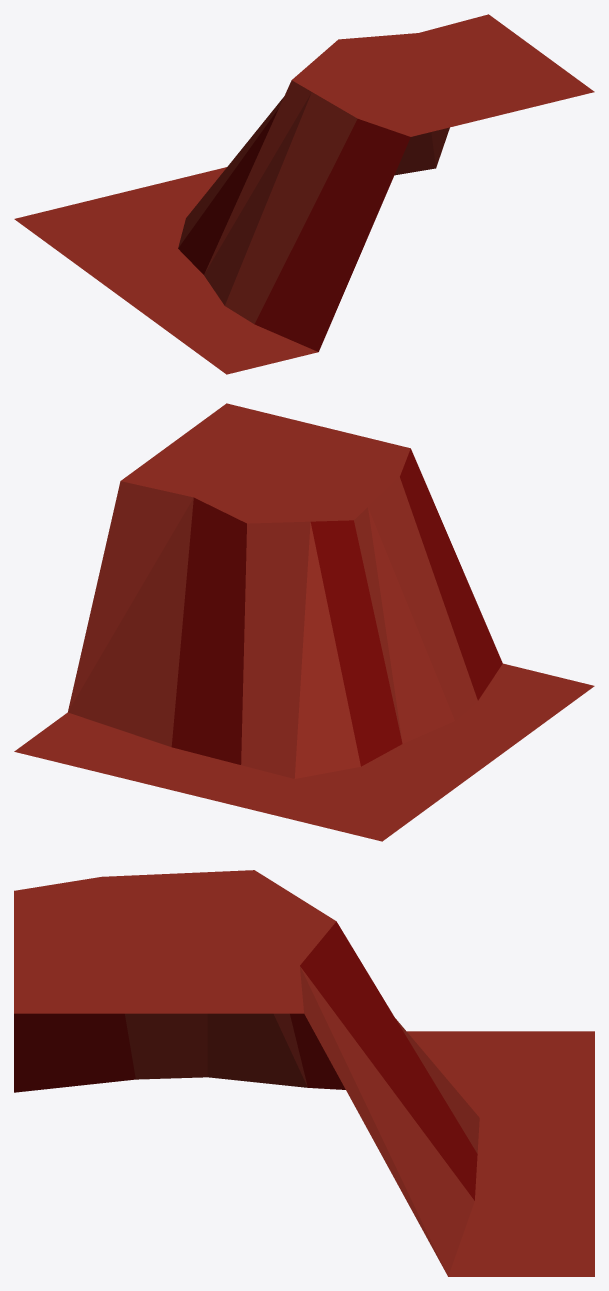
File: Border_6.fbx
The picture shows the model from 3 angles, top to bottom: view 1: azimuth 30°, elevation 25°; view 2: azimuth 150°, elevation 25°; view 3: azimuth 270°, elevation 25°; orthographic projection. The views are drawn at different scales.
Parts seen in each view (by area): view 1: Plane.045; view 2: Plane.045; view 3: Plane.045.
Part boxes in pixels (box(x1,y1,x2,y2)): Plane.045: box(14, 14, 594, 374); Plane.045: box(14, 403, 594, 841); Plane.045: box(14, 870, 594, 1276).
Size of the model in its own units: 200 by 100 by 200.
